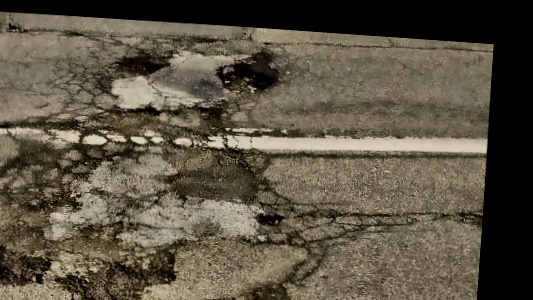pothole: (69, 257, 179, 300), (215, 51, 282, 97), (0, 236, 57, 289), (115, 51, 170, 81), (257, 210, 288, 228)
